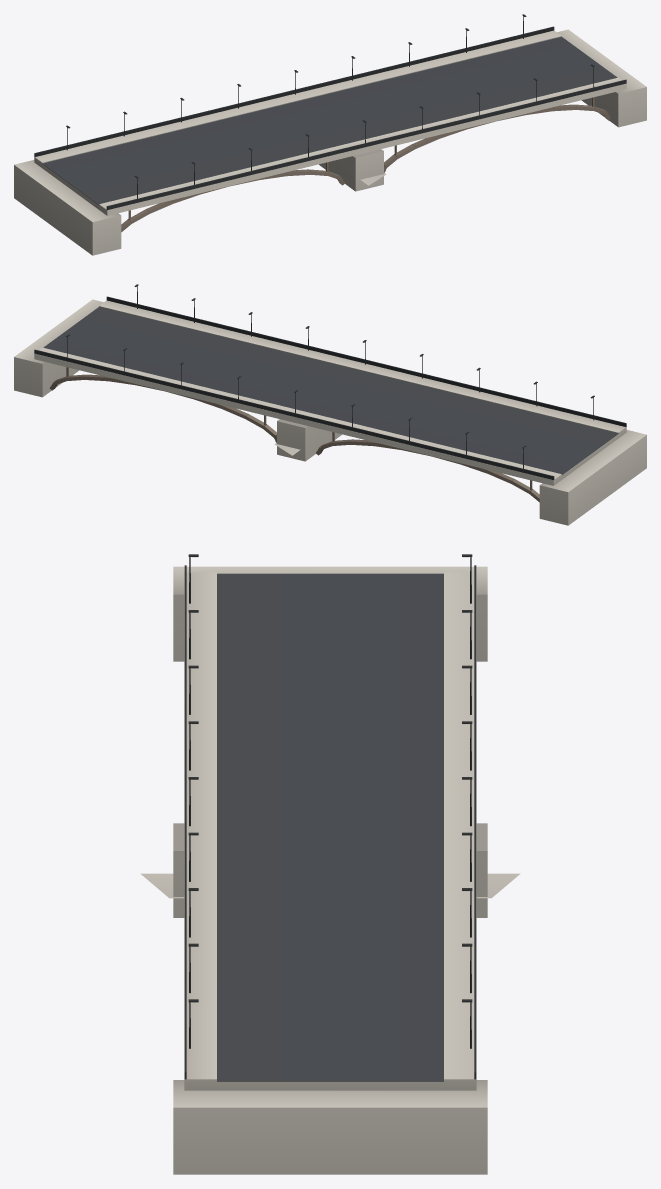
File: pont.glb
3 views of the same model, one above another, from view 1: azimuth 30°, elevation 25°; view 2: azimuth 150°, elevation 25°; view 3: azimuth 270°, elevation 25° (orthographic). The views are drawn at different scales.
Parts seen in each view (by area): view 1: pont; view 2: pont; view 3: pont.
Part boxes in pixels (box(x1,y1,x2,y2)): pont: box(14, 14, 646, 255); pont: box(14, 284, 646, 525); pont: box(140, 554, 520, 1174).
Size of the model in its own units: 175 by 19.1 by 52.
